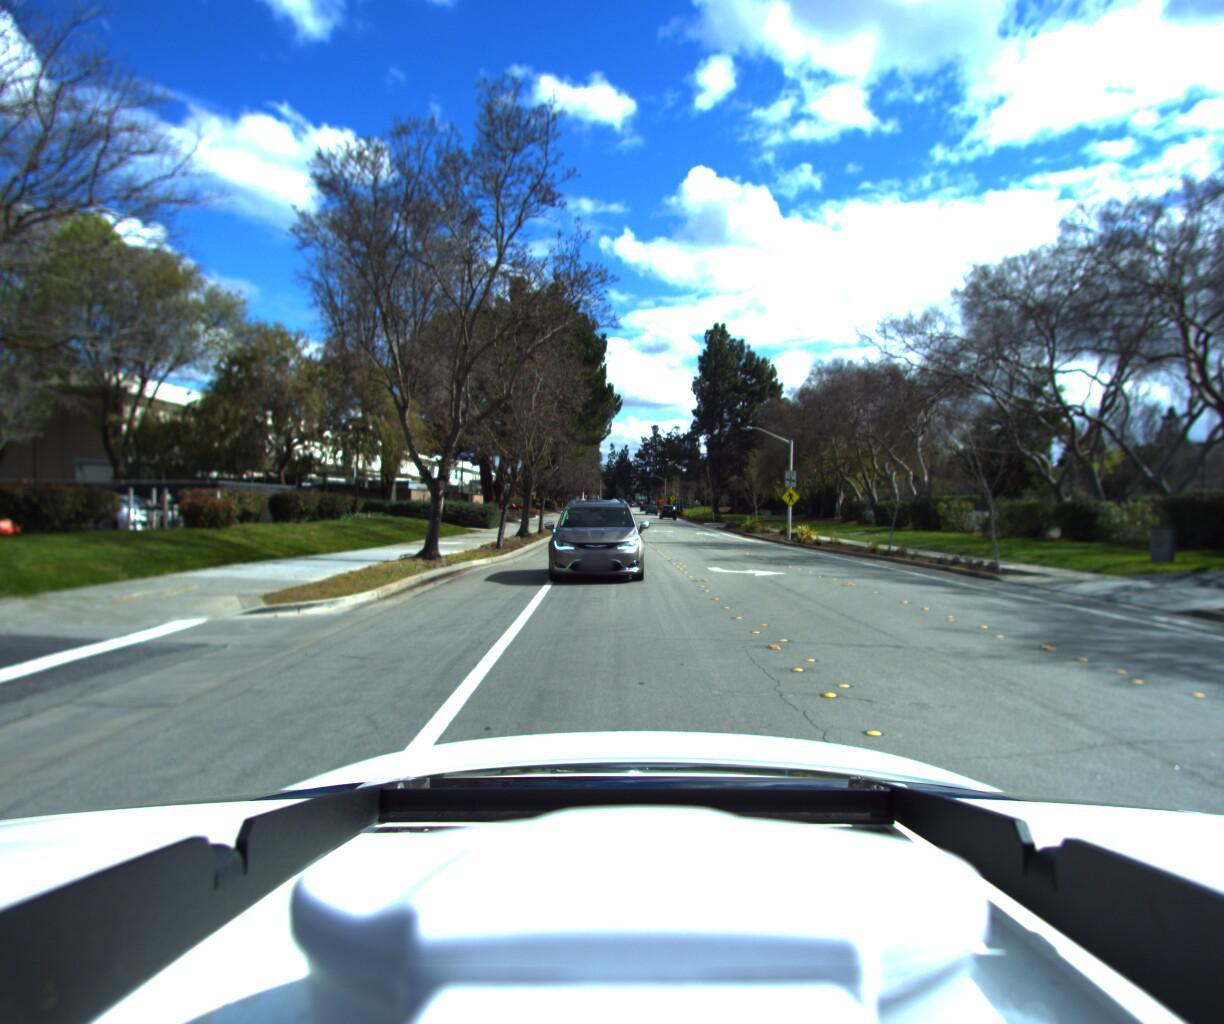car: (541, 500, 644, 595)
